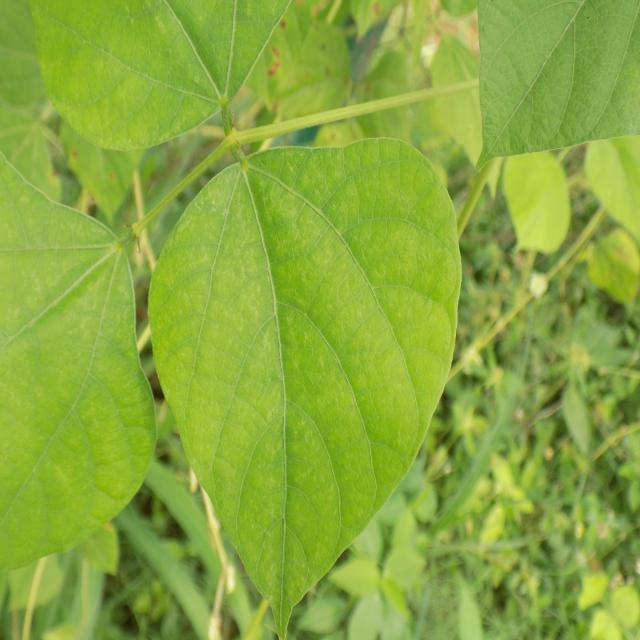Dolicos bean_healthy: (147, 139, 461, 633)
